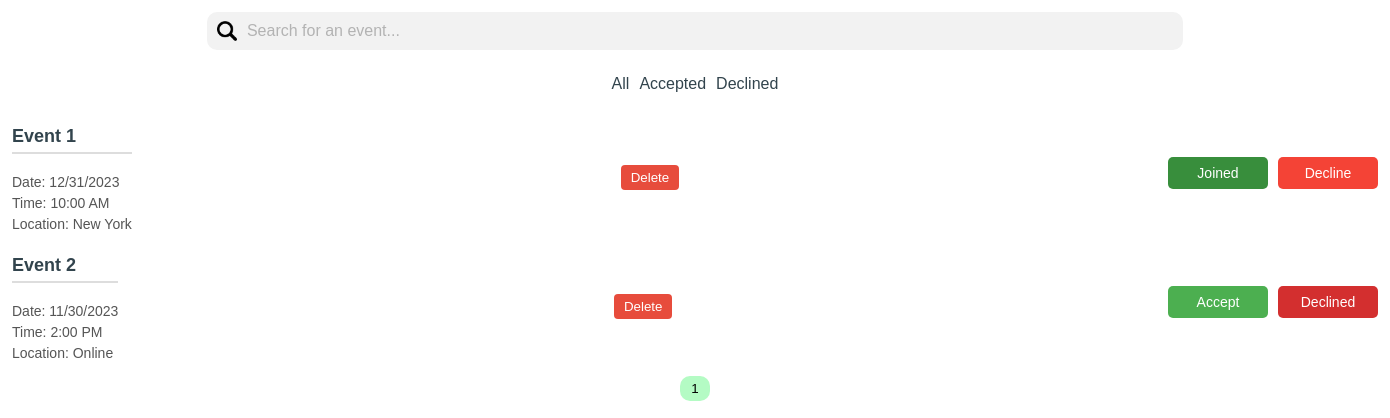
Scenario: EventCard Component › filters events correctly
Click the button "Accepted" at (673, 84), box [634,70,711,98]
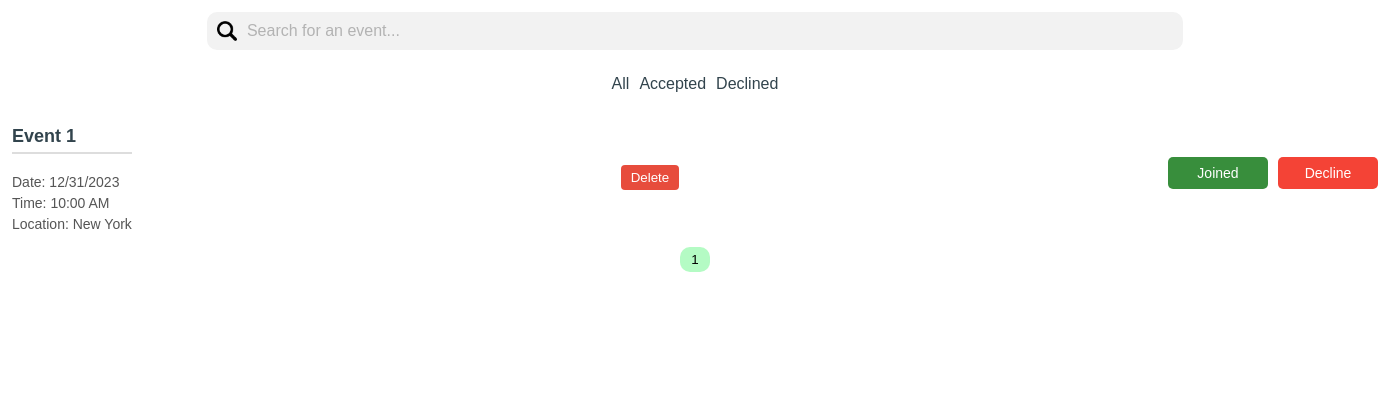
Expected: the heading "Event 1" is shown, [12,126,132,154]
Result: the heading "Event 2" is gone
Click the button "Declined" at (747, 84), box [711,70,783,98]
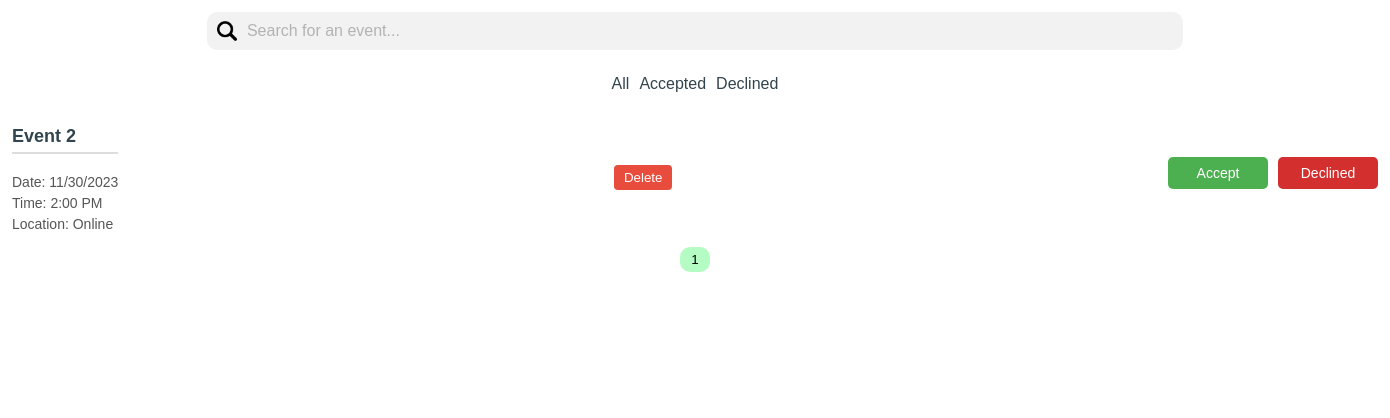
Result: the heading "Event 1" is gone
Result: the heading "Event 2" is shown at [12,126,118,154]
